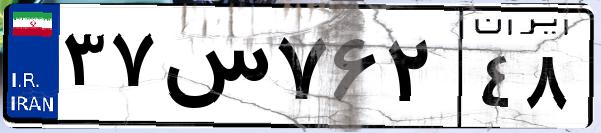2: (385, 28, 445, 110)
3: (57, 26, 110, 100)
4: (475, 38, 525, 113)
6: (330, 28, 385, 110)
7: (270, 28, 330, 110), (110, 28, 158, 98)
8: (525, 38, 570, 115)
س: (158, 20, 270, 120)
